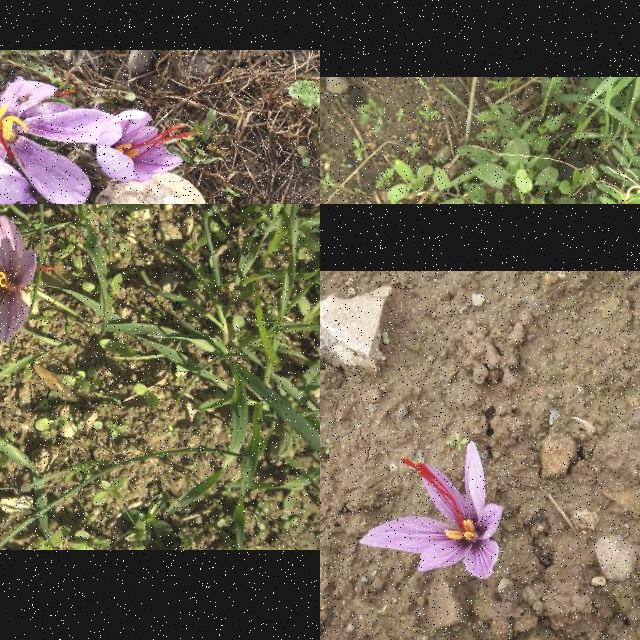flower: (357, 442, 501, 580), (0, 73, 114, 204), (0, 214, 57, 342), (96, 108, 190, 182)
overlap: (0, 71, 115, 204)
